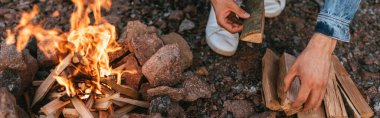fire: (17, 10, 124, 89)
